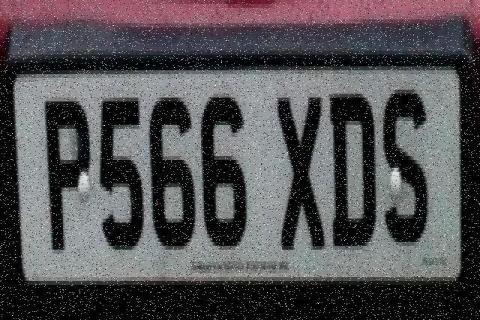LicensePlate: (2, 7, 480, 313)
